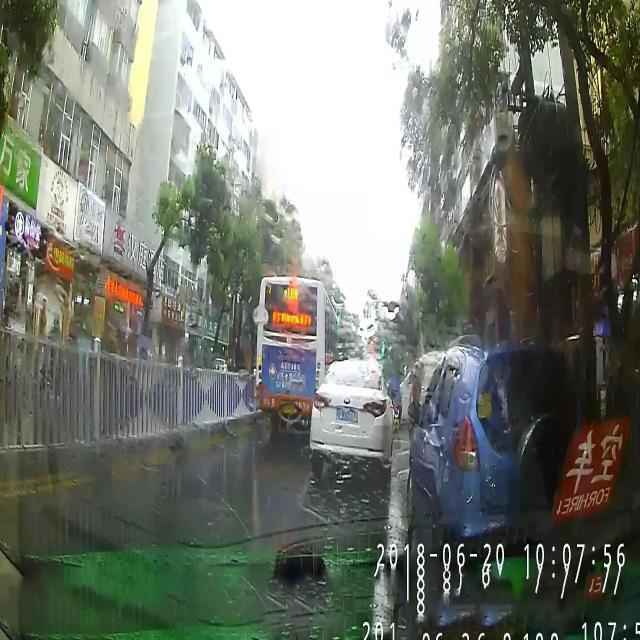car: (406, 336, 580, 554), (308, 356, 394, 486)
